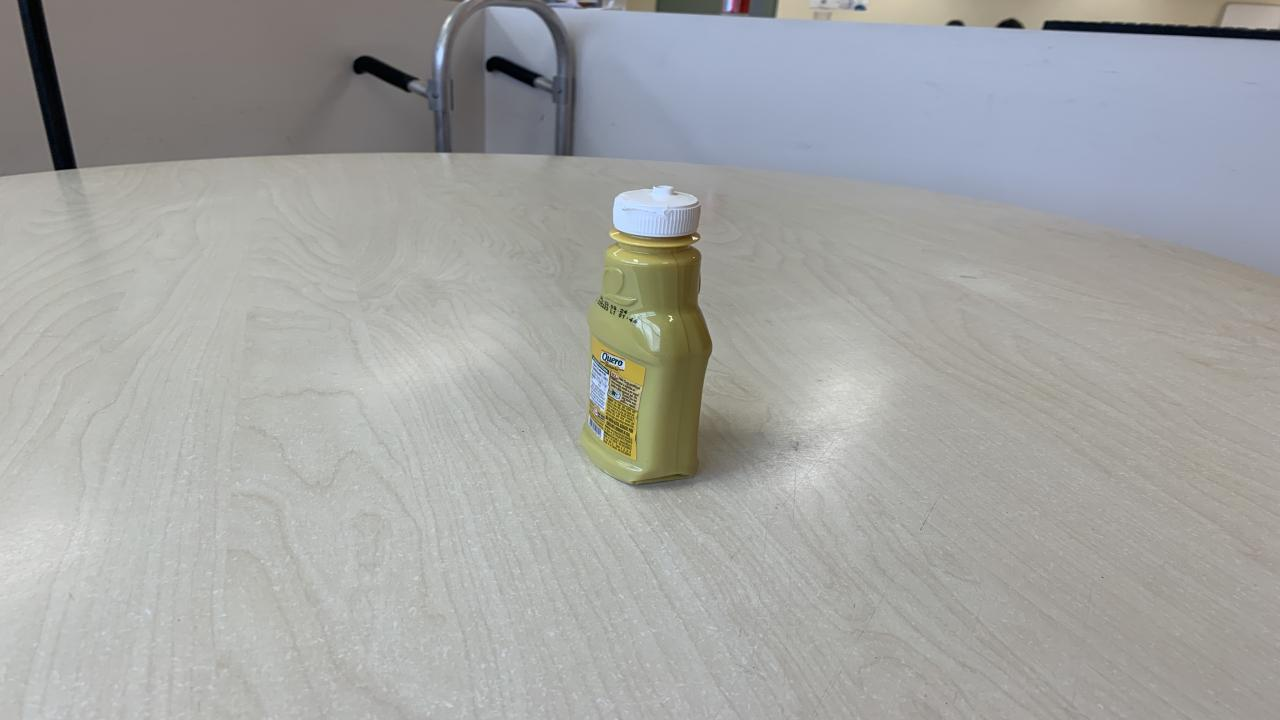Mustard-Pantry_Items: (577, 187, 713, 488)
